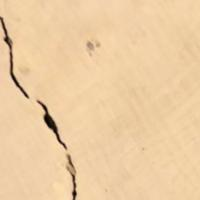crack: (0, 6, 90, 199)
